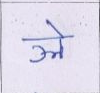o_matra: (55, 23, 66, 59)
